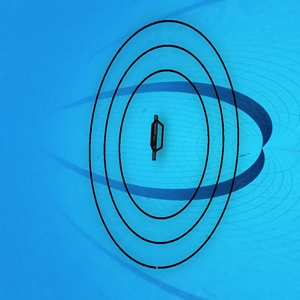circle: (88, 20, 240, 270)
submarine: (150, 114, 166, 163)
